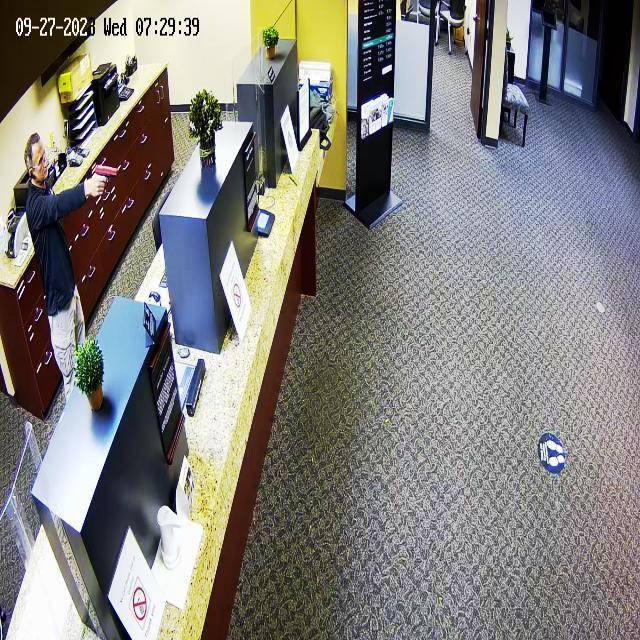Gun: (90, 149, 122, 193)
